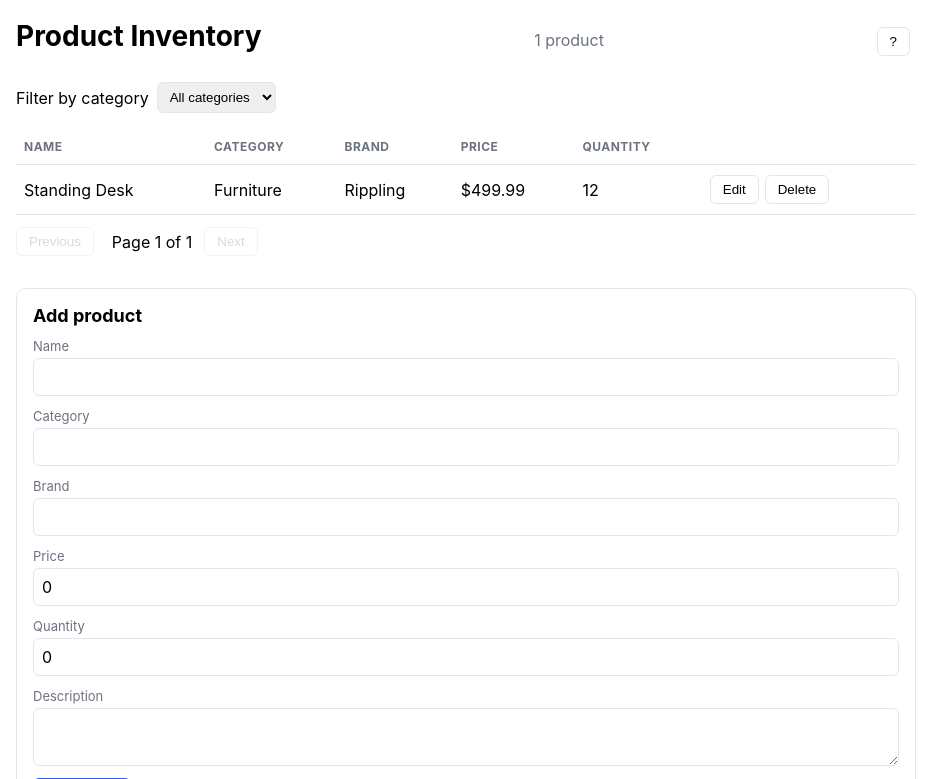
Test: ProductsPage › creates a product and refreshes the table
This screenshot has width=933, height=779.
Expected: the text "Standing Desk" is shown, [16,164,206,214]
Type "Monitor" into the field labelled "Name". click: (466, 377)
box: [33,358,899,396]
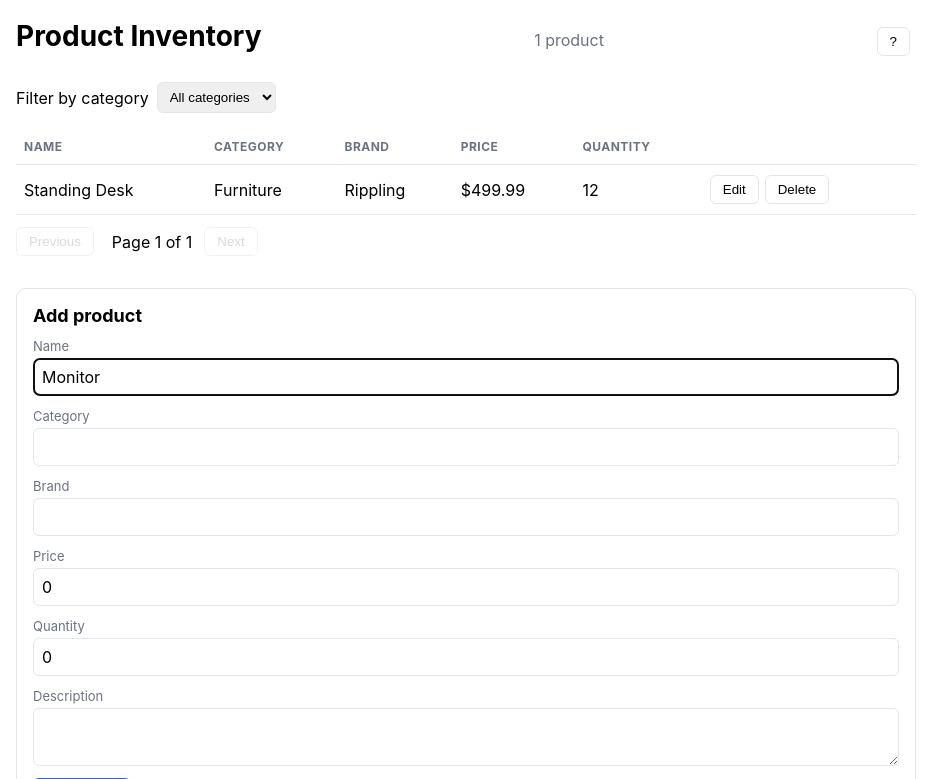
Type "Devices" into the field labelled "Category". click: (466, 447)
box: [33,428,899,466]
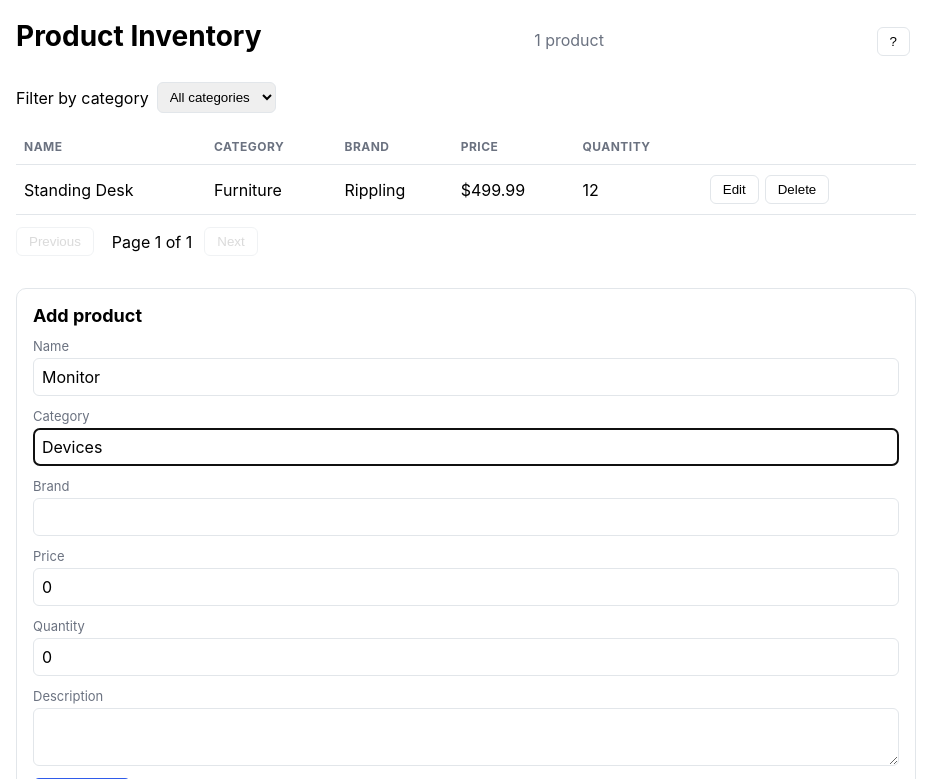
Replace the text in the number field labelled "Price" with "250". click: (466, 587)
box: [33,568,899,606]
(page scrolled)
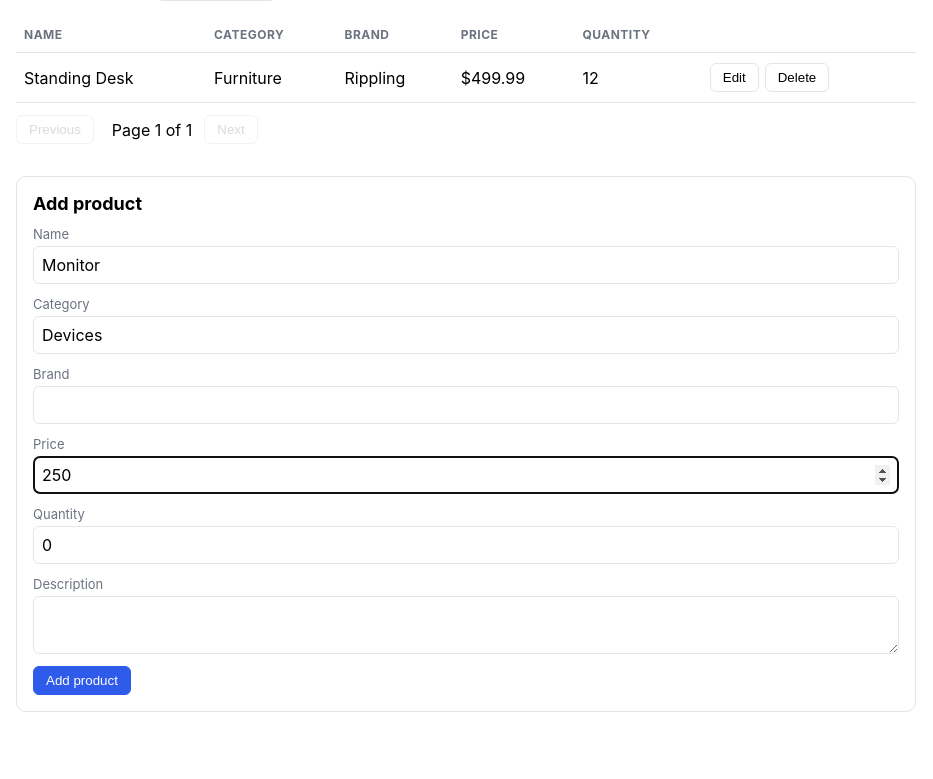
Click the button "Add product". click: (82, 680)
box: [33,666,131,695]
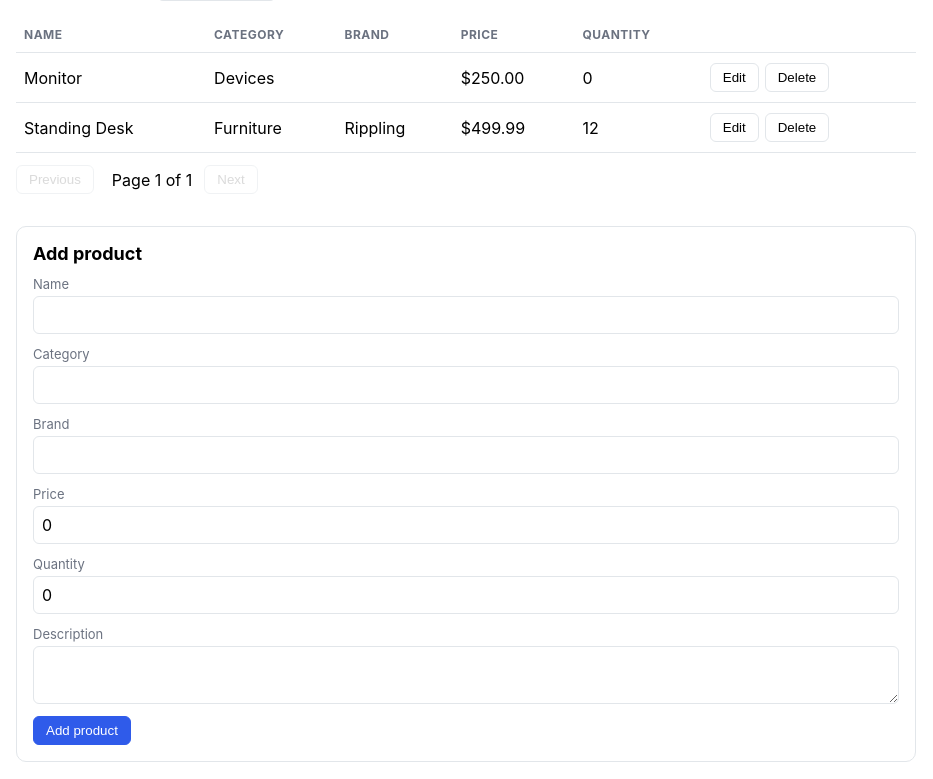
Expected: the text "Monitor" is shown, [16,52,206,102]
